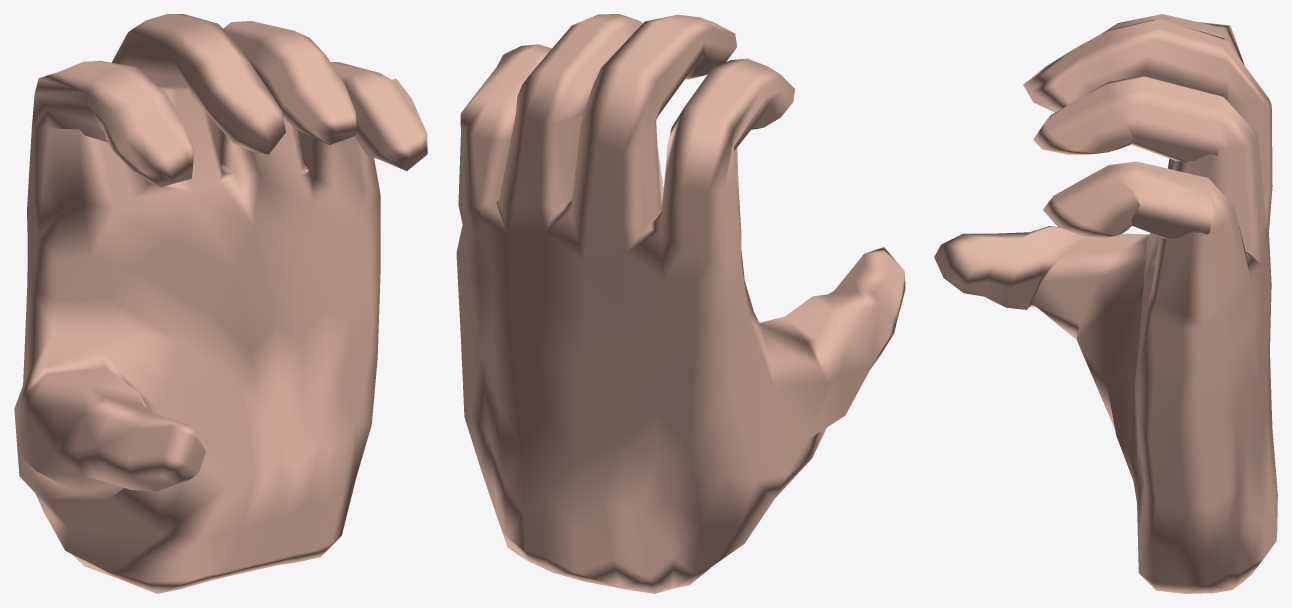
The model's file is ANGULO_COM_POLEGAR.obj.
3 views of the same model, side by side, from view 1: azimuth 30°, elevation 25°; view 2: azimuth 150°, elevation 25°; view 3: azimuth 270°, elevation 25° (orthographic). The views are drawn at different scales.
Parts seen in each view (by area): view 1: mao_dir polySurface1; view 2: mao_dir polySurface1; view 3: mao_dir polySurface1.
Part boxes in pixels (x1,y1,x2,y2): mao_dir polySurface1: [14, 14, 427, 593]; mao_dir polySurface1: [456, 14, 905, 593]; mao_dir polySurface1: [934, 14, 1277, 593].
Bounding box in the file's own units: 135 × 193 × 118.
